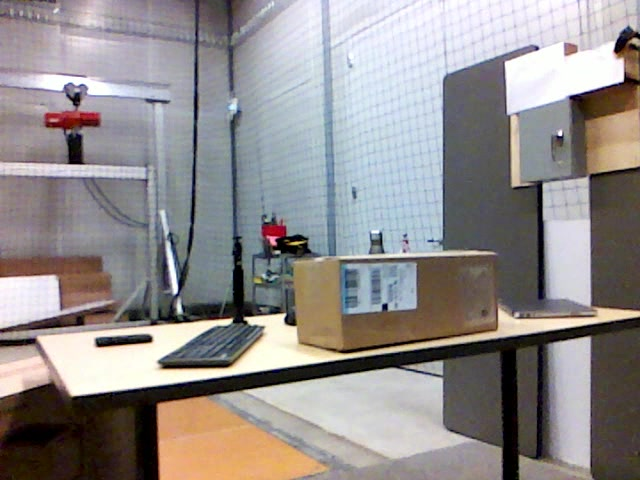box: (292, 254, 498, 351), (1, 356, 133, 476)
